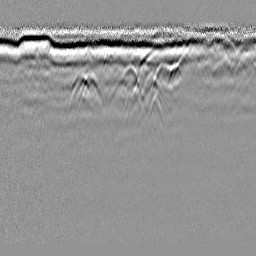cavity: (110, 63, 144, 101)
